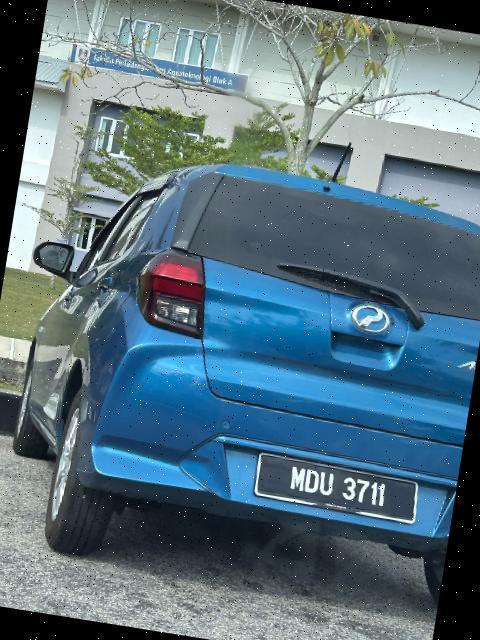License_Plate: (251, 450, 426, 526)
MDU3711: (251, 450, 426, 526)
car: (1, 117, 480, 609)
